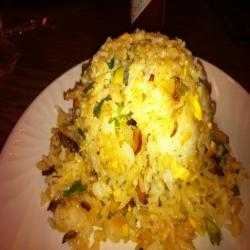omelette: (75, 33, 214, 197)
rice: (46, 154, 250, 246)
